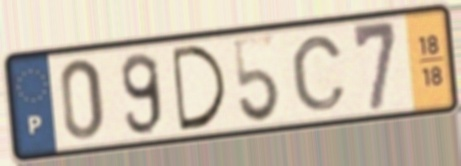0: (57, 55, 108, 145)
5: (230, 30, 284, 127)
7: (350, 20, 400, 115)
9: (118, 50, 164, 137)
C: (288, 33, 349, 114)
D: (168, 42, 231, 135)
